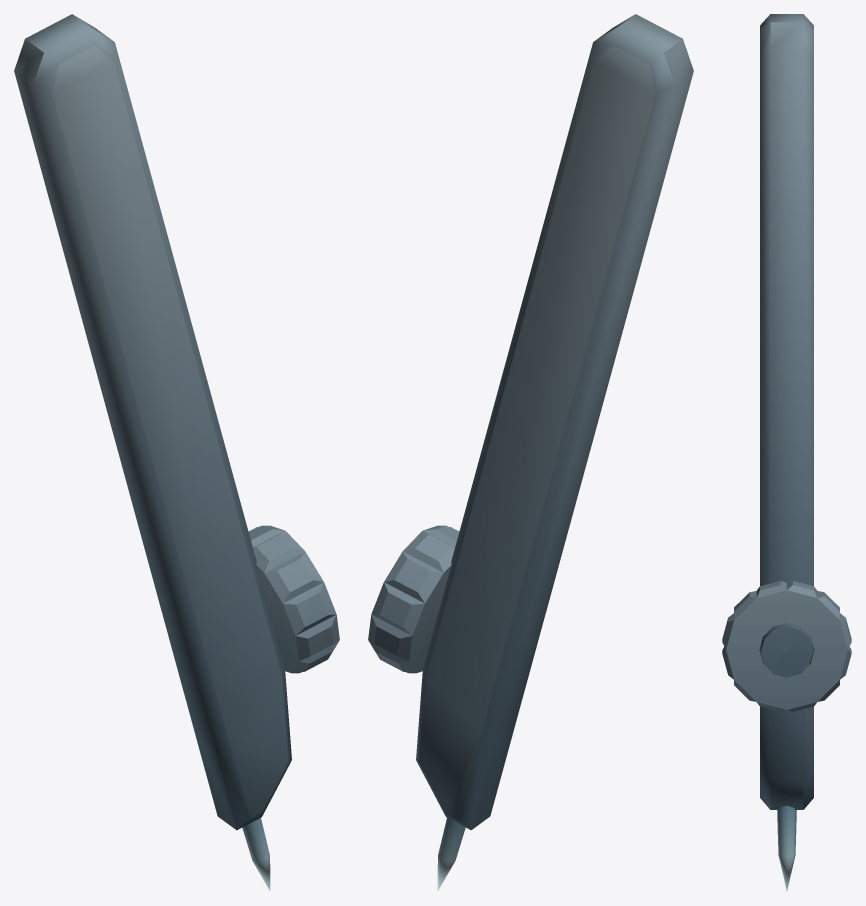
Rendered from drafting_compass_legLeft.obj.
The picture shows the model from 3 angles, left to right: view 1: azimuth 30°, elevation 25°; view 2: azimuth 150°, elevation 25°; view 3: azimuth 270°, elevation 25°; orthographic projection. The views are drawn at different scales.
Visible parts, largest first — view 1: drafting_compass_legLeft; view 2: drafting_compass_legLeft; view 3: drafting_compass_legLeft.
Part boxes in pixels (left/top/right/bottom): drafting_compass_legLeft: left=14, top=14, right=339, bottom=891; drafting_compass_legLeft: left=368, top=14, right=693, bottom=891; drafting_compass_legLeft: left=722, top=14, right=851, bottom=890.
Size of the model in its own units: 0.2127 by 0.6306 by 0.0933.
1 material, 1 textured.
